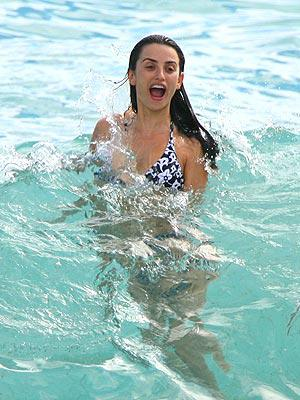human: (88, 30, 216, 212)
